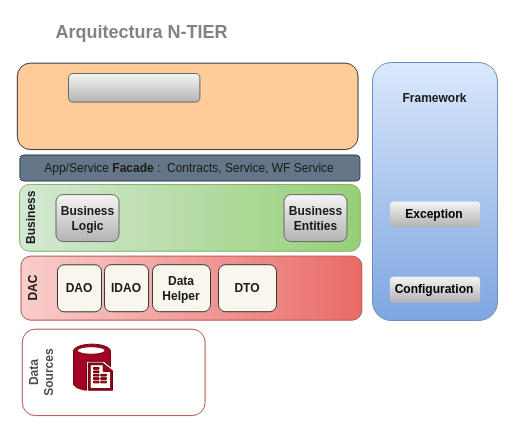
This 516x433 diagram has some shape labels left out. The shapes that lost their labels are listed below. From the top down, each one's centre as x and y in pixels, then its label:
(134,87): UI Component
(187,106): User Interface
(92,366): SQLITE
